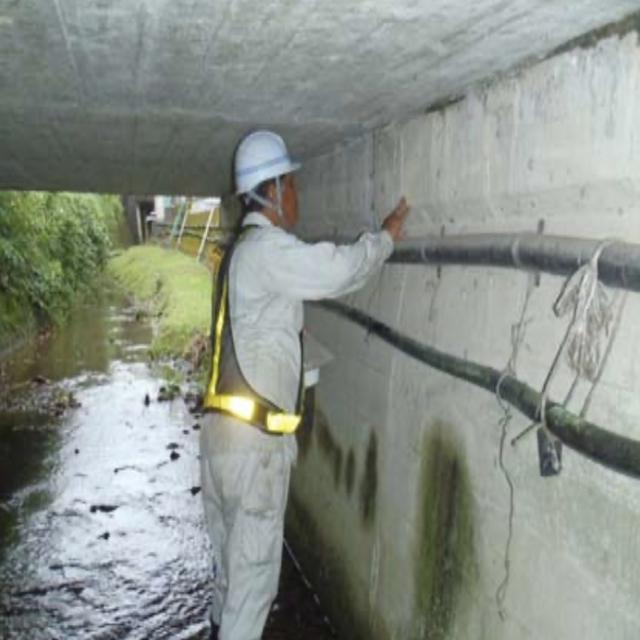leakage: (409, 420, 490, 634), (316, 399, 388, 534)
